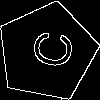C: (22, 27, 75, 71)
